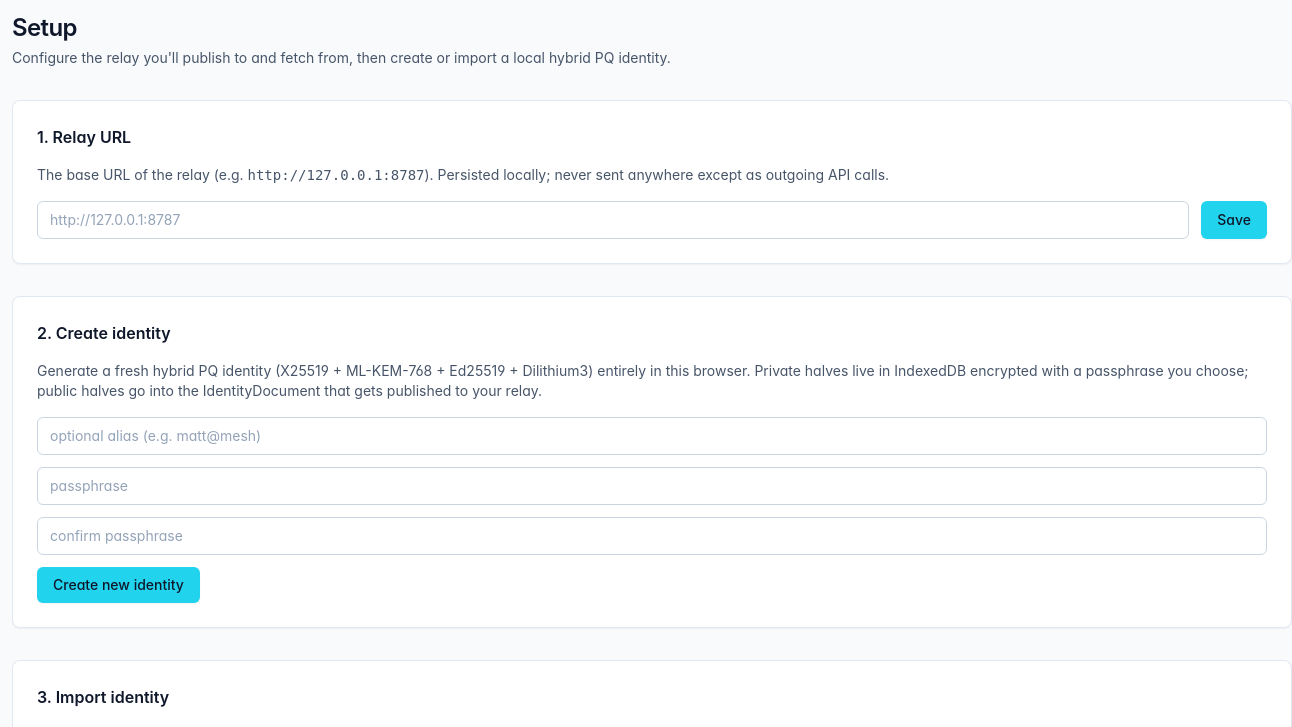
Scenario: Setup page › creates a new identity with matching passphrase
Type "s3cret!" into the password field with placeholder "passphrase" at [652, 486], box [37,467,1267,505]
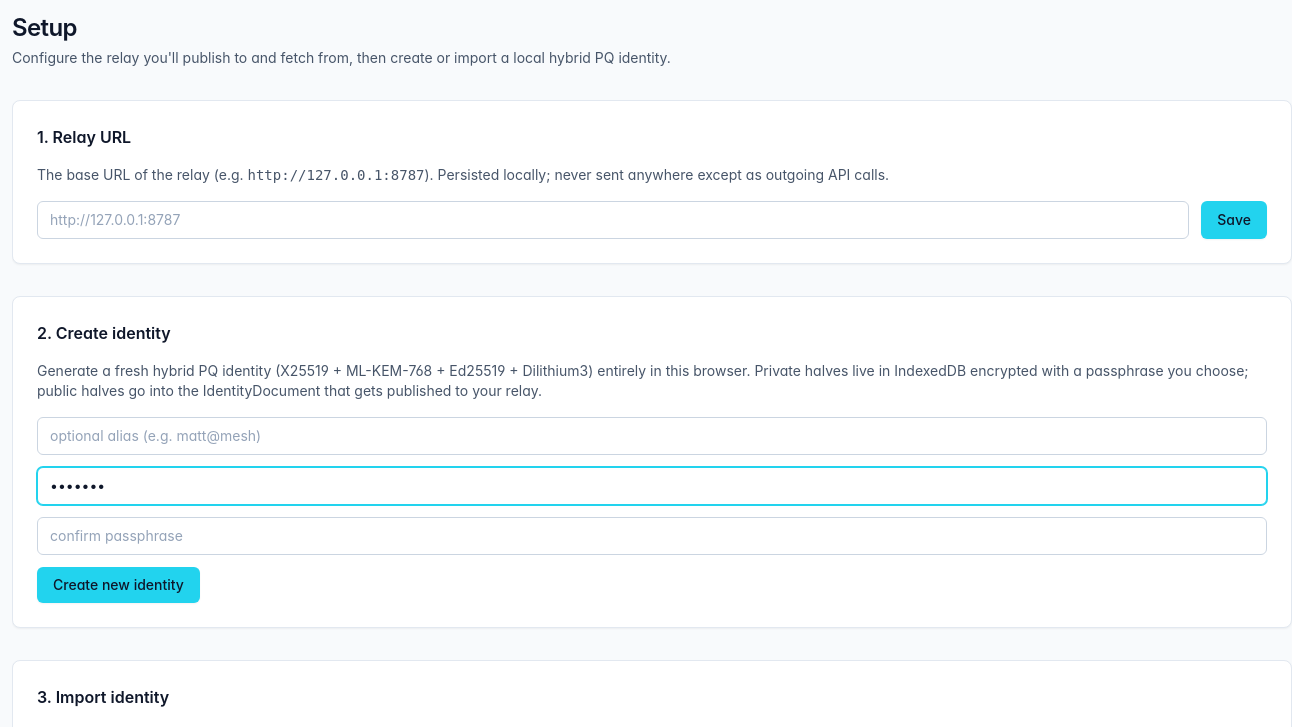
Type "s3cret!" into the password field with placeholder "confirm passphrase" at [652, 536], box [37,517,1267,555]
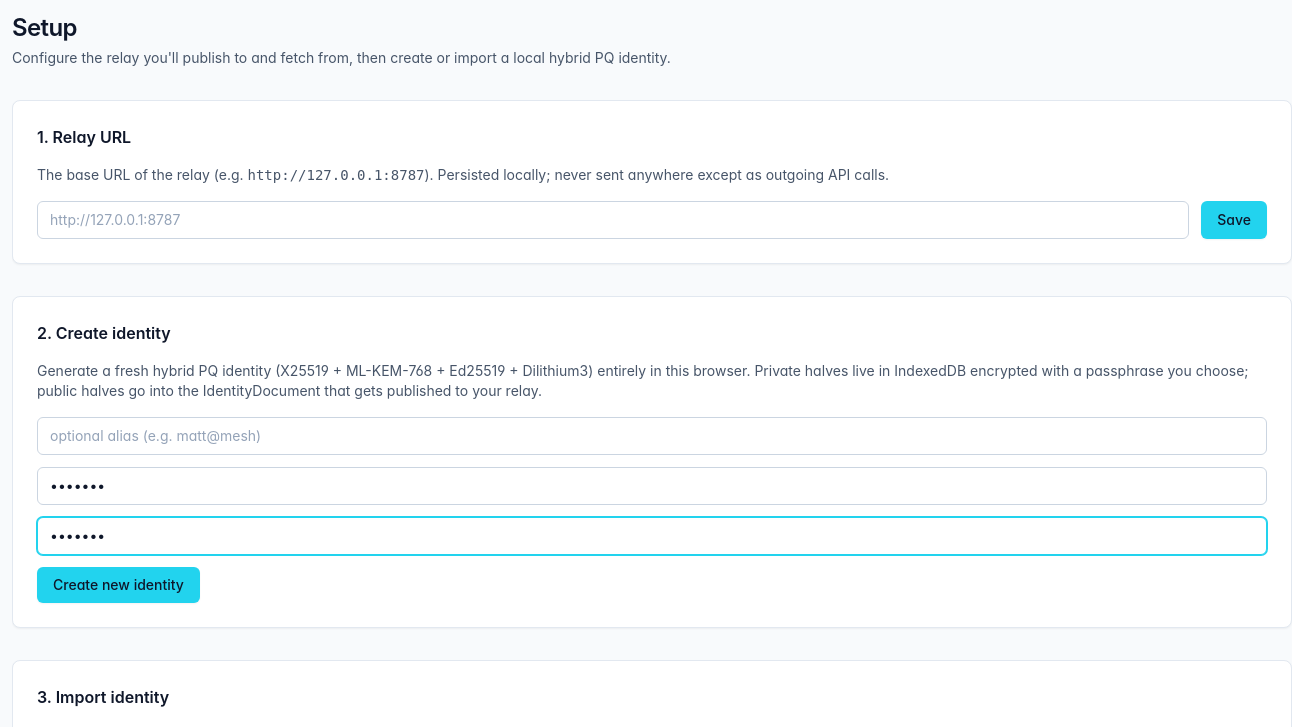
Click the button "Create new identity" at [118, 585], box [37,567,200,603]
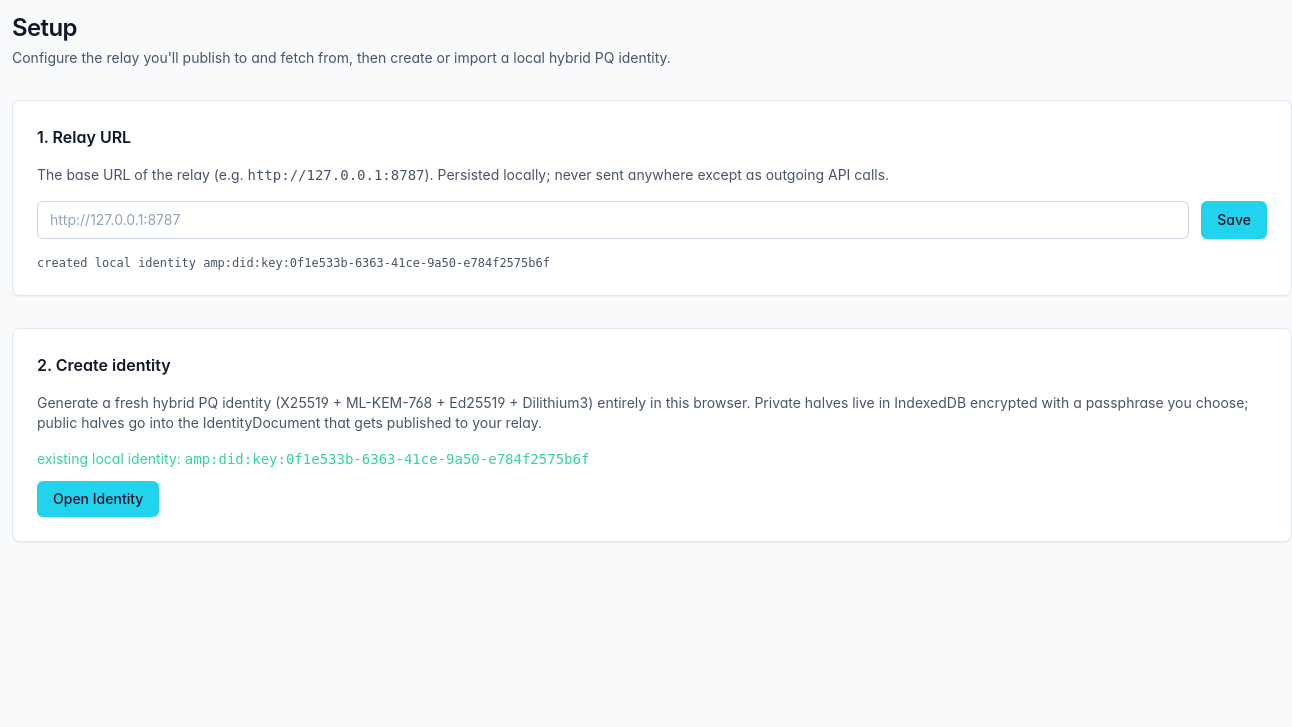
Now the message shows "created local identity", box [37,256,550,270]
